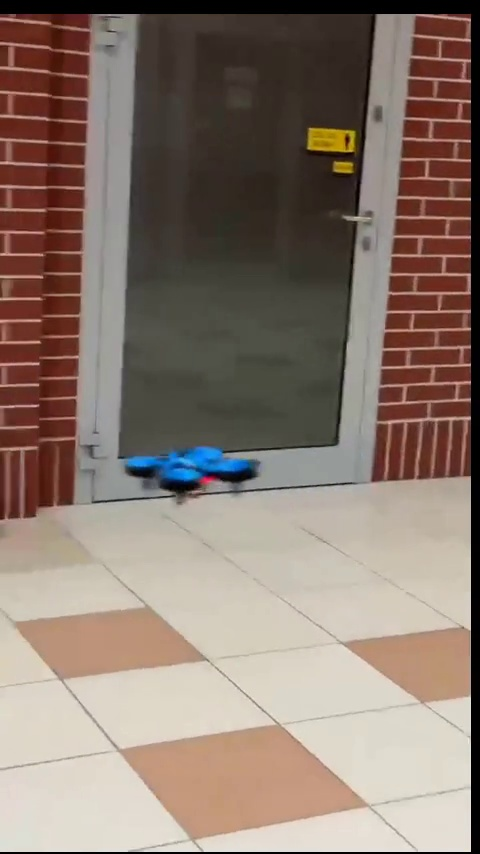drone: (124, 452, 248, 500)
